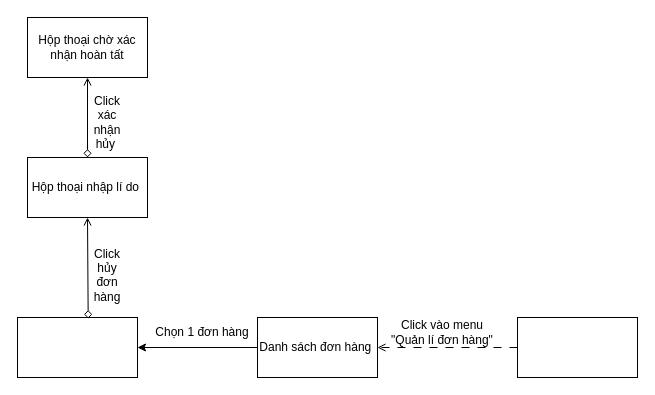
Image size: 655x395. Some labels were removed from this diagram. The centre of each missing label's shape, as x and y in pixels:
Home: (577,347)
Màn hình chi tiết đơn hàng: (77,347)
